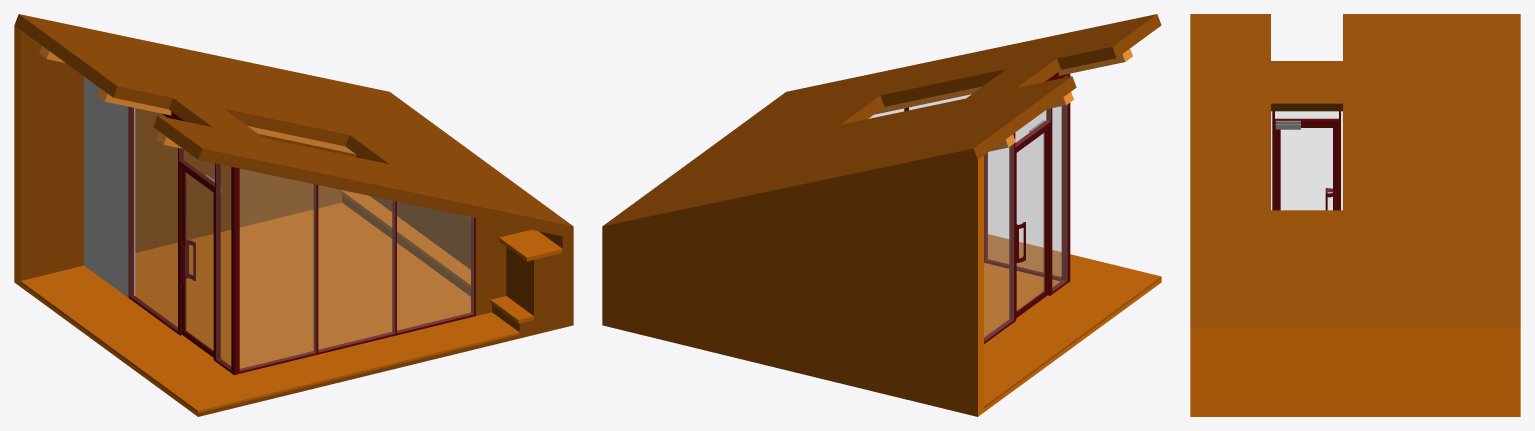
The model's file is пергородки алюминиевые.obj.
3 views of the same model, side by side, from view 1: azimuth 30°, elevation 25°; view 2: azimuth 150°, elevation 25°; view 3: azimuth 270°, elevation 25° (orthographic). The views are drawn at different scales.
Bounding box in the file's own units: 5.27 × 3.56 × 4.43.
